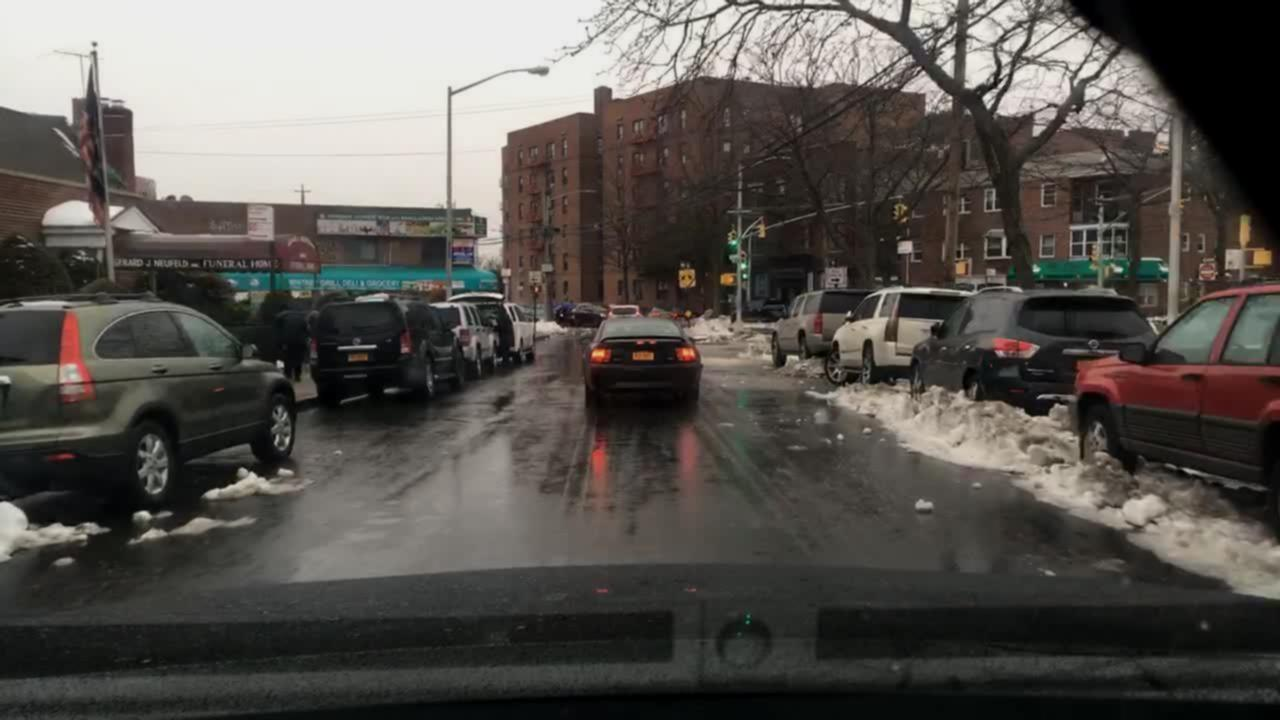Nissan: (1085, 334, 1101, 352)
